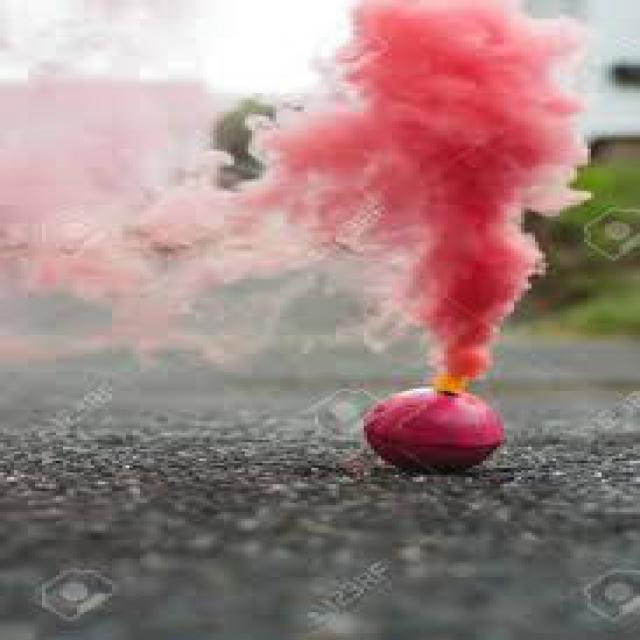Smoke: (160, 32, 594, 386)
